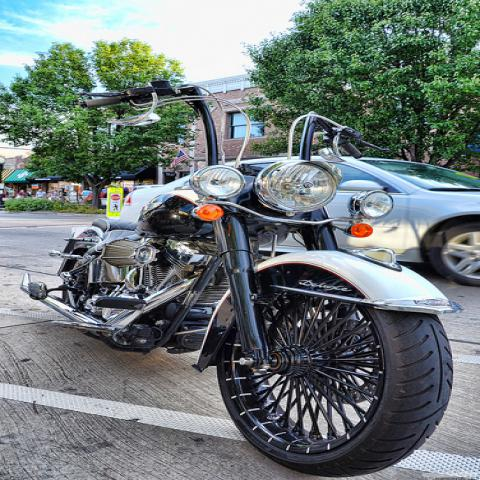car: (237, 153, 479, 288)
motorcycle: (31, 80, 454, 473)
